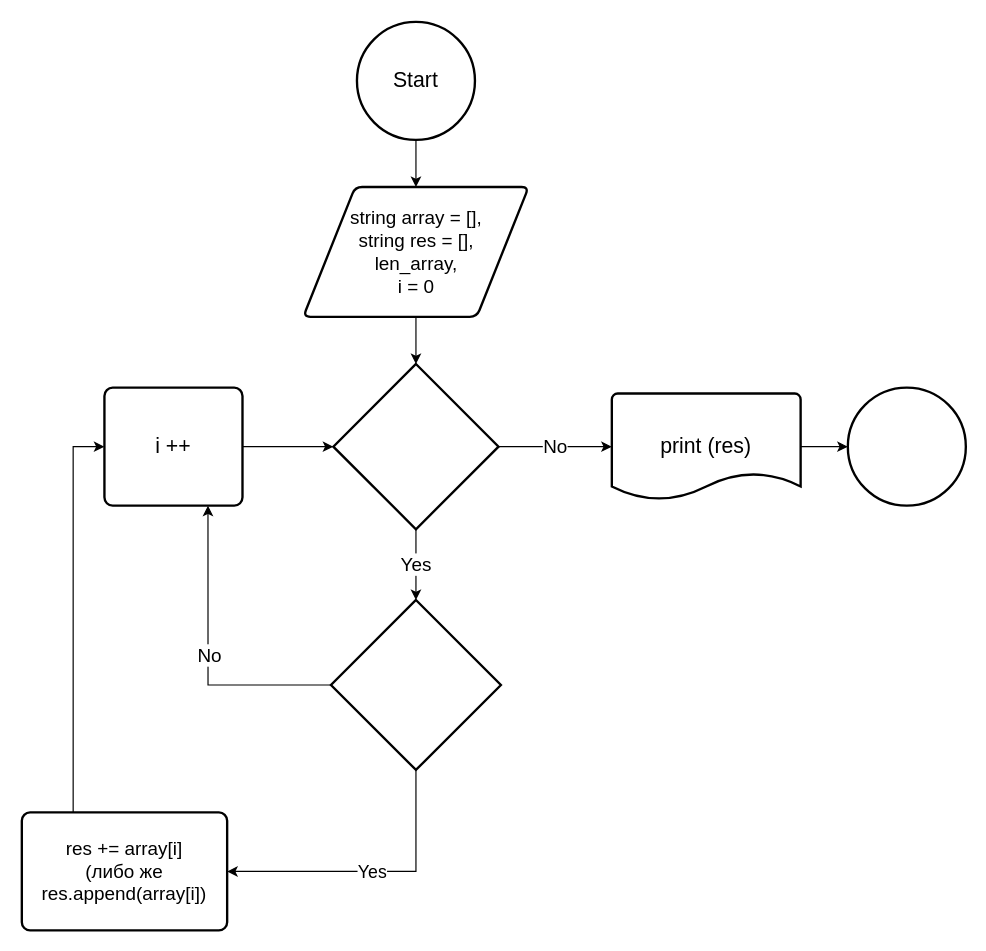
The diagram is 986 pixels wide and 951 high, and some of its shapes have lost their labels. Here are the shapes that lost their labels. From the top down, the box of each, then its label:
(332, 362, 499, 530): i < len_array
(846, 386, 966, 506): End
(329, 598, 502, 771): len(array[i]) <= 3
